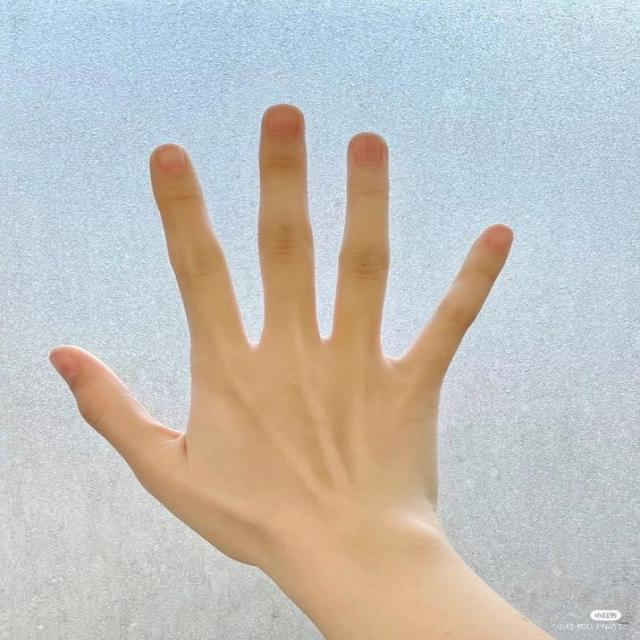Fingernail: (352, 134, 384, 168), (265, 106, 300, 136), (156, 147, 184, 177), (50, 352, 75, 381), (487, 227, 512, 254)
